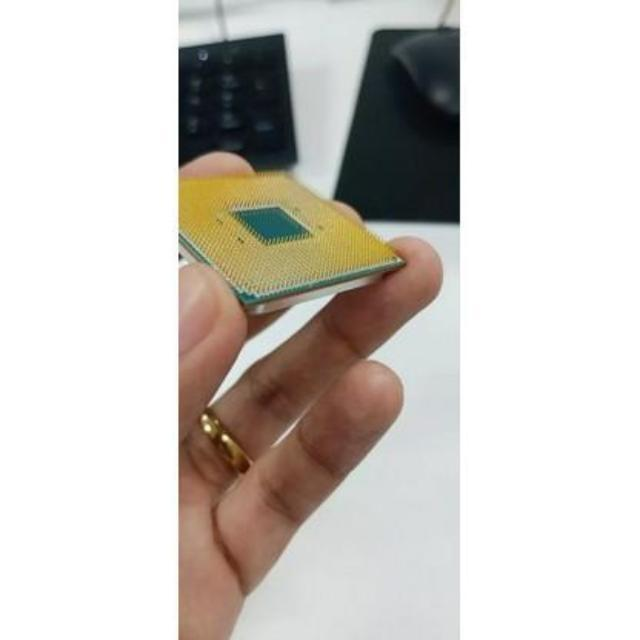CPU: (178, 157, 410, 315)
